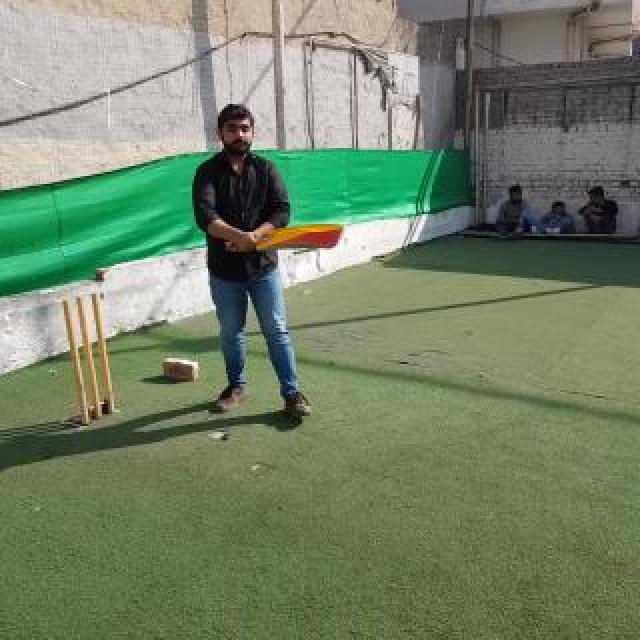bat: (251, 224, 345, 252)
